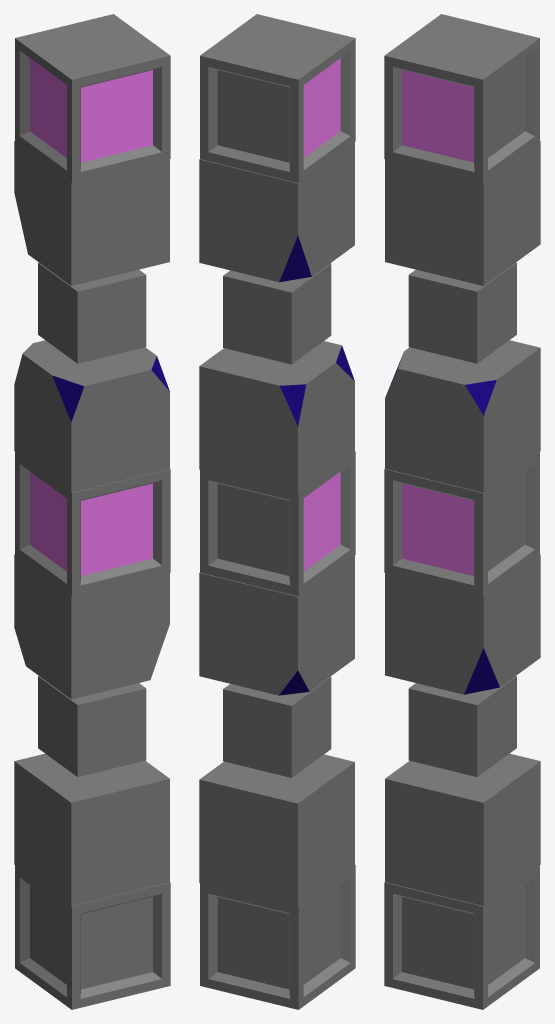
File: qwer.fbx
3 renders of one model, left to right at view 1: azimuth 30°, elevation 25°; view 2: azimuth 150°, elevation 25°; view 3: azimuth 330°, elevation 25°, orthographic.
Parts seen in each view (by area): view 1: Basic008, Object036, Object037; view 2: Basic008, Object036, Object037; view 3: Basic008, Object036, Object037.
Boxes of the visible parts, x1,y1,x2,y2 form: Basic008: (14,262,170,1009); Object036: (15,14,170,182); Object037: (14,141,169,285); Basic008: (199,263,355,1009); Object036: (200,14,355,182); Object037: (199,142,354,282); Basic008: (384,262,540,1009); Object036: (384,14,539,182); Object037: (385,141,540,285).
Bounding box in the file's own units: 20 × 180 × 20.19.
